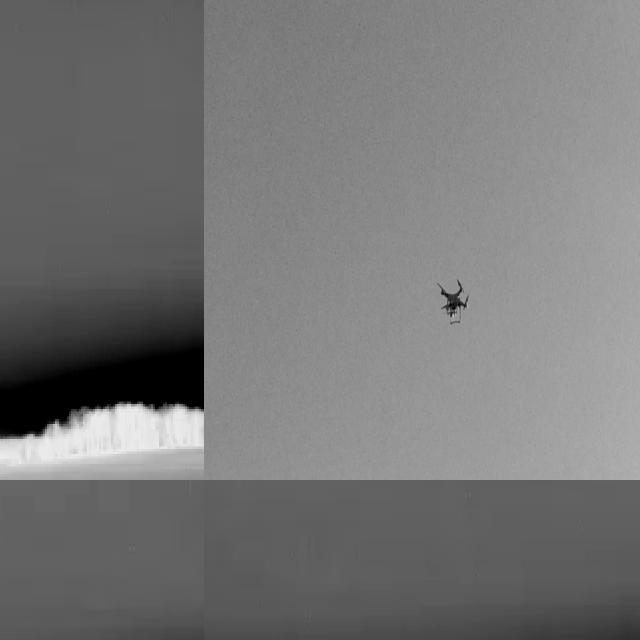drone: (437, 273, 474, 325)
